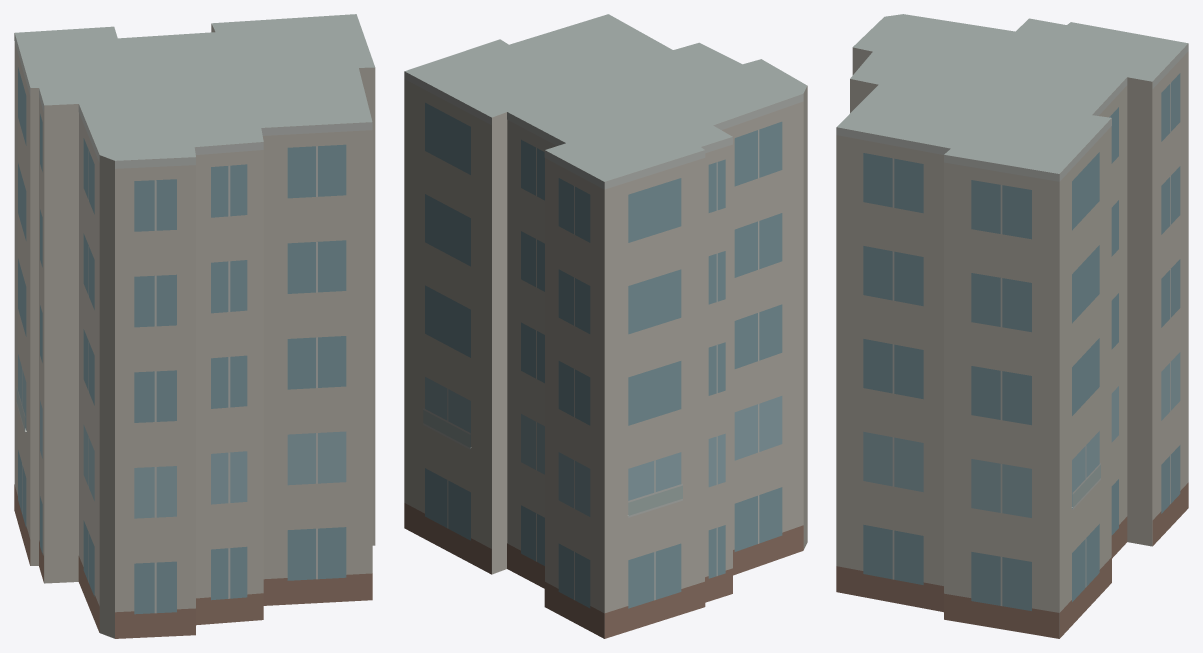
Rendered from survey-upis-32995717.glb.
3 renders of one model, left to right at view 1: azimuth 30°, elevation 25°; view 2: azimuth 150°, elevation 25°; view 3: azimuth 270°, elevation 25°, orthographic. The views are drawn at different scales.
Visible parts, largest first — view 1: survey-upis-32995717.tmp; view 2: survey-upis-32995717.tmp; view 3: survey-upis-32995717.tmp.
Part boxes in pixels (left/top/right/bottom): survey-upis-32995717.tmp: left=14, top=14, right=375, bottom=638; survey-upis-32995717.tmp: left=404, top=14, right=807, bottom=638; survey-upis-32995717.tmp: left=836, top=14, right=1188, bottom=638.
Size of the model in its own units: 10.71 by 14.5 by 9.96.
